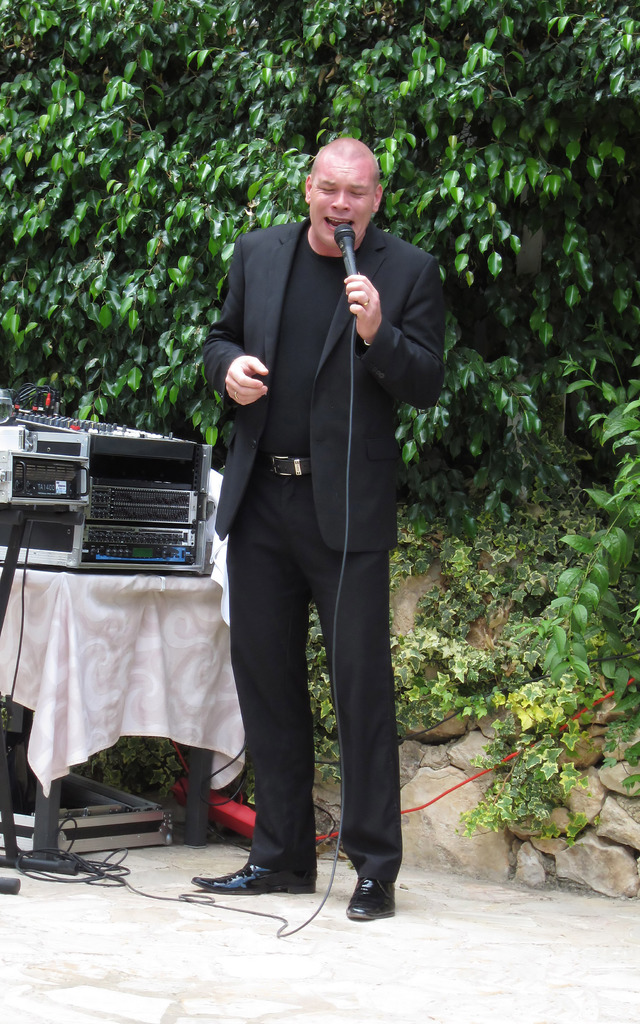Tree: (0, 0, 640, 533)
